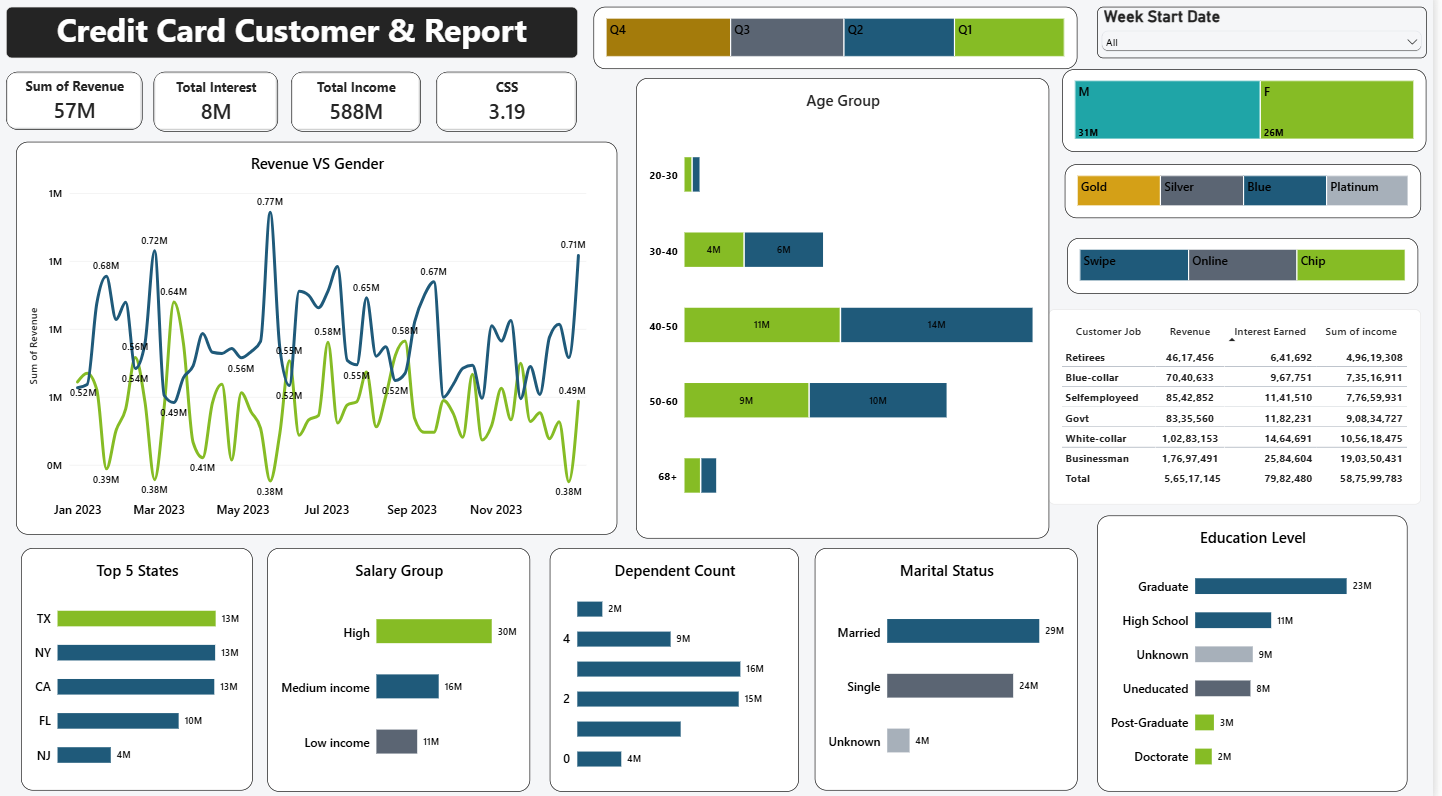

Layout of this report page (visuals, bound fields, positions):
{"tool":"powerbi","page":{"name":"Credit Card Customer & Report","canvas":[1920,1080],"ordinal":1},"visuals":[{"type":"tableEx","fields":{"Values":["public customer_detail.customer_job","Sum(public cc_detail.Revenue)","Sum(public cc_detail.interest_earned)","Sum(public customer_detail.income)"]},"box":[1406.1,421.7,497.7,260.6],"z":0},{"type":"cardVisual","fields":{"Data":["Sum(public cc_detail.Revenue)"]},"box":[12.7,105,182.8,77.8],"z":1000},{"type":"cardVisual","fields":{"Data":["Sum(public customer_detail.income)"]},"box":[394.5,105,173.7,79.6],"z":2000},{"type":"cardVisual","fields":{"Data":["Sum(public cc_detail.interest_earned)"]},"box":[209.9,105,166.5,79.6],"z":3000},{"type":"slicer","fields":{"Values":["public cc_detail.week_start_date"]},"box":[1471.3,18.1,439.7,68.8],"z":4000},{"type":"treemap","fields":{"Group":["public cc_detail.qtr"],"Values":["Avg(public cc_detail.client_num)"]},"box":[798.1,18.1,646,83.2],"z":5000},{"type":"treemap","fields":{"Group":["public customer_detail.gender"],"Values":["Sum(public cc_detail.Revenue)"]},"box":[1424.2,101.3,486.8,110.4],"z":6000},{"type":"treemap","fields":{"Values":["Avg(public cc_detail.client_num)"],"Group":["public cc_detail.card_category"]},"box":[1427.8,228,475.9,72.4],"z":7000},{"type":"cardVisual","fields":{"Data":["Avg(public customer_detail.cust_satisfaction_score)"]},"box":[588.1,105,188.2,79.6],"z":8000},{"type":"lineChart","title":"Revenue VS Gender","fields":{"Y":["Sum(public cc_detail.Revenue)"],"Series":["public customer_detail.gender"],"Category":["public cc_detail.week_start_date.Variation.Date Hierarchy.Year","public cc_detail.week_start_date.Variation.Date Hierarchy.Quarter","public cc_detail.week_start_date.Variation.Date Hierarchy.Month","public cc_detail.week_start_date.Variation.Date Hierarchy.Day"]},"box":[27.1,199.1,803.5,524.8],"z":9000},{"type":"barChart","title":"Age Group","fields":{"Y":["Sum(public cc_detail.Revenue)"],"Category":["public customer_detail.AgeGroup"],"Series":["public customer_detail.gender"]},"box":[854.2,114,551.9,615.3],"z":10000},{"type":"barChart","title":"Dependent Count","fields":{"Y":["Sum(public cc_detail.Revenue)"],"Category":["public customer_detail.dependent_count"]},"box":[740.2,742,333,325.7],"z":11000},{"type":"barChart","title":"Education Level","fields":{"Y":["Sum(public cc_detail.Revenue)"],"Category":["public customer_detail.education_level"]},"box":[1471.3,698.5,414.4,369.2],"z":12000},{"type":"barChart","title":"Top 5 States","fields":{"Y":["Sum(public cc_detail.Revenue)"],"Category":["public customer_detail.state_cd"]},"box":[32.6,742,309.5,323.9],"z":13000},{"type":"barChart","title":" Marital Status","fields":{"Y":["Sum(public cc_detail.Revenue)"],"Category":["public customer_detail.marital_status"]},"box":[1093,742,351.1,323.9],"z":14000},{"type":"textbox","box":[12.7,18.1,763.7,68.8],"z":15000},{"type":"treemap","fields":{"Values":["Avg(public cc_detail.client_num)"],"Group":["public cc_detail.use_chip"]},"box":[1431.4,327.5,468.7,74.2],"z":16000},{"type":"barChart","title":"Salary Group","fields":{"Y":["Sum(public cc_detail.Revenue)"],"Category":["public customer_detail.IncomeGroup"]},"box":[361.9,742,351.1,325.7],"z":17000}]}

Visuals, with their boxes in screenshot pixels (x1, y1, x2, y2), scaled from the page's 1920x1080 canvas onto the 1442x796 screenshot:
tableEx - public customer_detail.customer_job x Sum(public cc_detail.Revenue): 1056 311 1430 503
cardVisual - Sum(public cc_detail.Revenue): 10 77 147 135
cardVisual - Sum(public customer_detail.income): 296 77 427 136
cardVisual - Sum(public cc_detail.interest_earned): 158 77 283 136
slicer - public cc_detail.week_start_date: 1105 13 1435 64
treemap - public cc_detail.qtr x Avg(public cc_detail.client_num): 599 13 1085 75
treemap - public customer_detail.gender x Sum(public cc_detail.Revenue): 1070 75 1435 156
treemap - Avg(public cc_detail.client_num) x public cc_detail.card_category: 1072 168 1430 221
cardVisual - Avg(public customer_detail.cust_satisfaction_score): 442 77 583 136
"Revenue VS Gender" lineChart: 20 147 624 534
"Age Group" barChart: 642 84 1056 538
"Dependent Count" barChart: 556 547 806 787
"Education Level" barChart: 1105 515 1416 787
"Top 5 States" barChart: 24 547 257 786
" Marital Status" barChart: 821 547 1085 786
textbox: 10 13 583 64
treemap - Avg(public cc_detail.client_num) x public cc_detail.use_chip: 1075 241 1427 296
"Salary Group" barChart: 272 547 535 787
